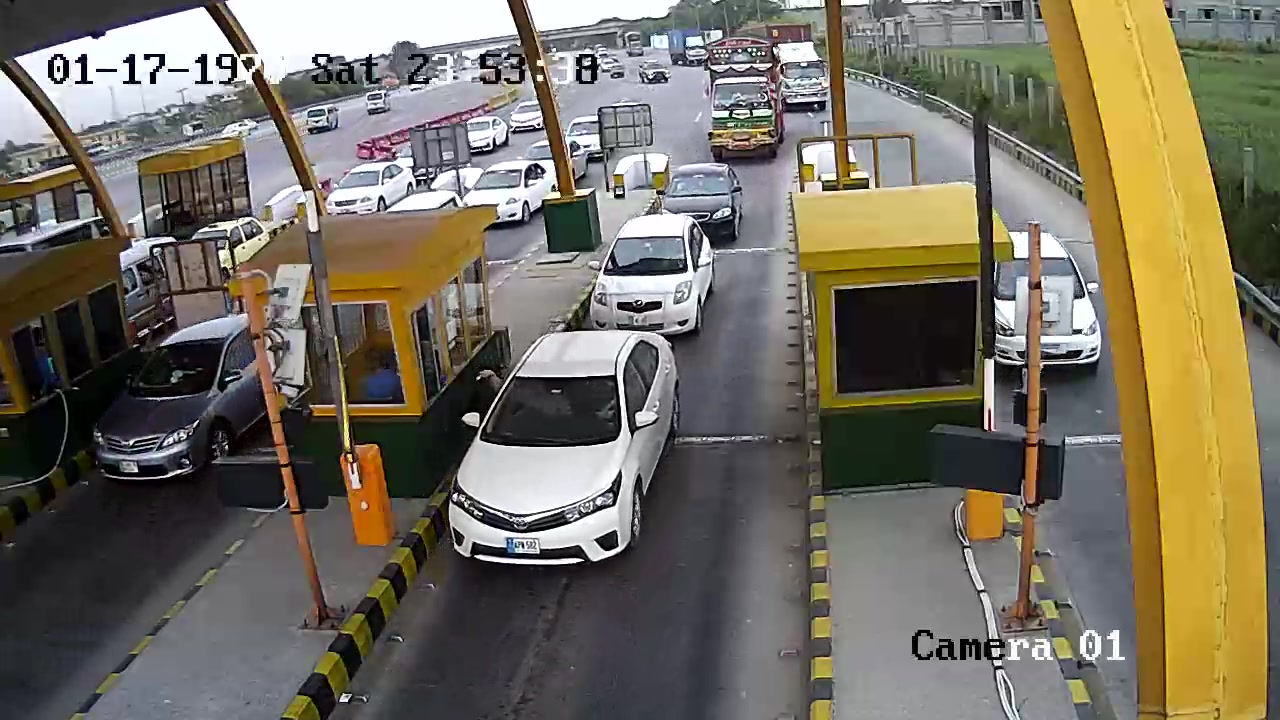F1: (445, 329, 685, 570)
